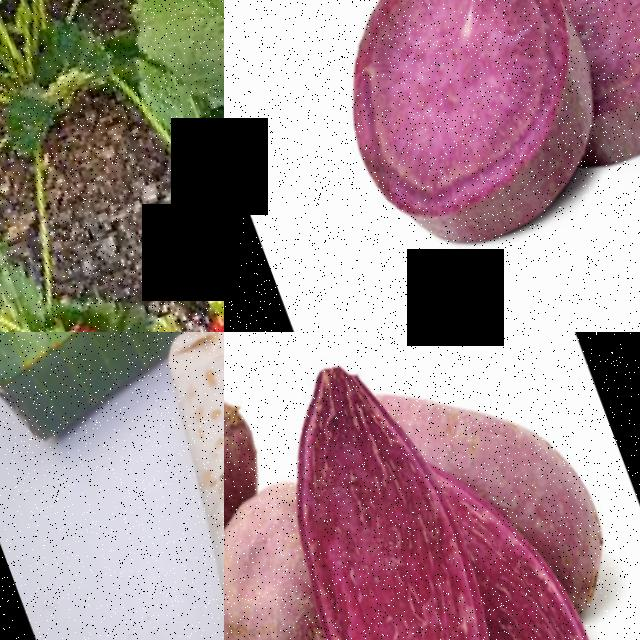sweet potato: (224, 333, 561, 640), (291, 0, 634, 276), (459, 490, 624, 640), (224, 516, 352, 640), (224, 384, 269, 552)
tofu: (136, 332, 224, 639)
